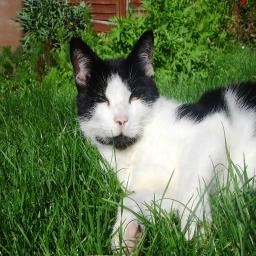catnose: (112, 115, 131, 130)
